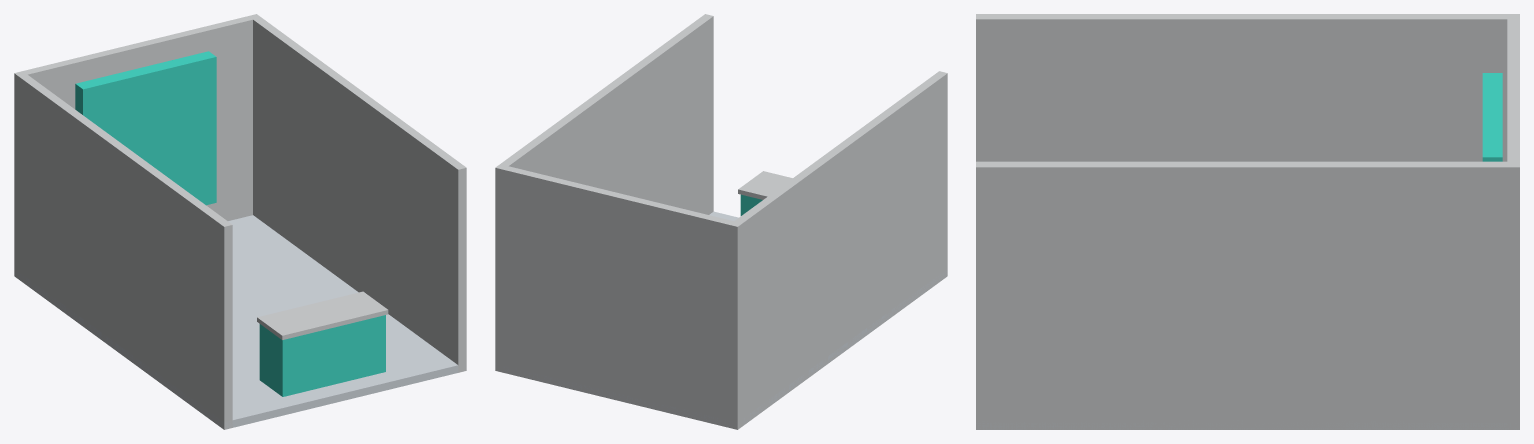
3 views of the same model, side by side, from view 1: azimuth 30°, elevation 25°; view 2: azimuth 150°, elevation 25°; view 3: azimuth 270°, elevation 25° (orthographic). The views are drawn at different scales.
Parts seen in each view (by area): view 1: Exhibition Booth Concept; view 2: Exhibition Booth Concept; view 3: Exhibition Booth Concept.
Part boxes in pixels (x1,y1,x2,y2): Exhibition Booth Concept: (14,14,466,429); Exhibition Booth Concept: (495,14,947,429); Exhibition Booth Concept: (976,14,1519,429).
Size of the model in its own units: 4 by 3.2 by 6.
